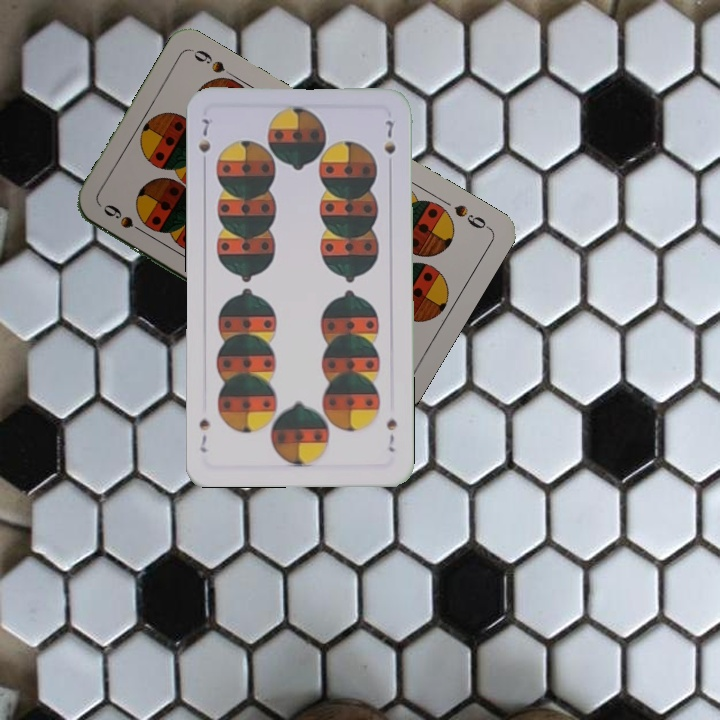S7: (194, 114, 215, 156), (383, 414, 400, 454)
S9: (99, 201, 151, 238), (450, 200, 492, 232)
